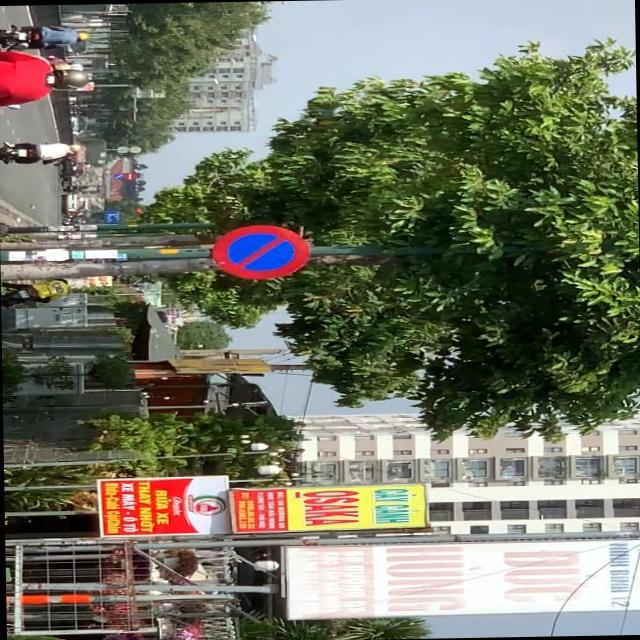P-131a: (212, 222, 309, 280)
